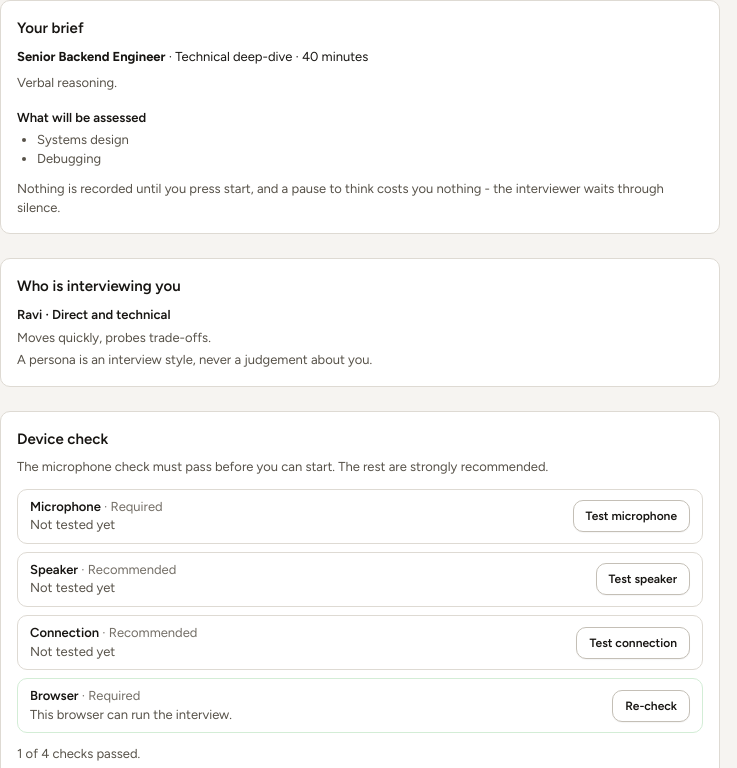
Test: the checks a person runs themselves › the speaker test plays a tone and the person says what they heard
Click the button "Test speaker".
click(643, 579)  # box 596,563 -> 690,595
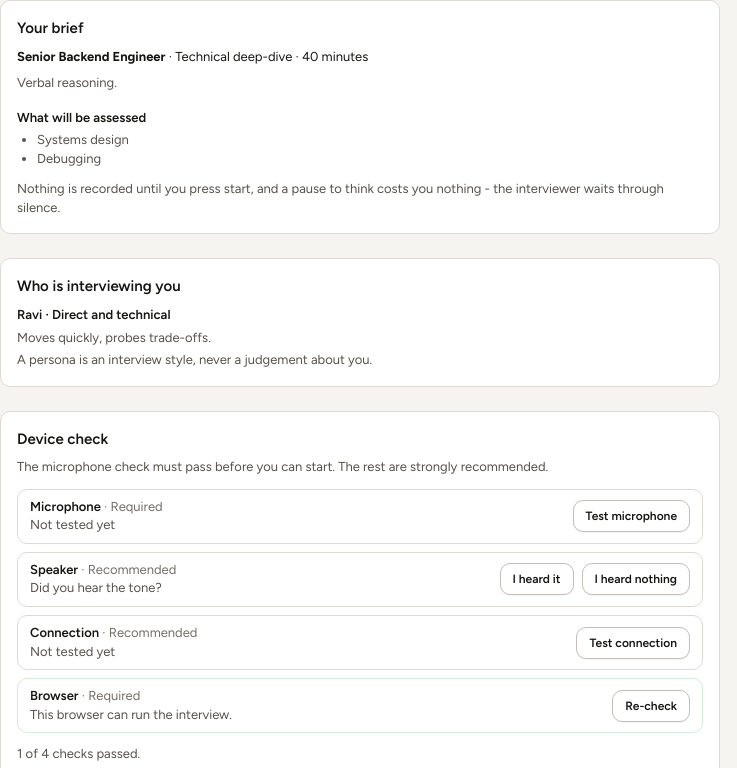
The tone cannot be measured, so the person answers for it.
Click the button "I heard it".
click(536, 579)  # box 500,563 -> 574,595
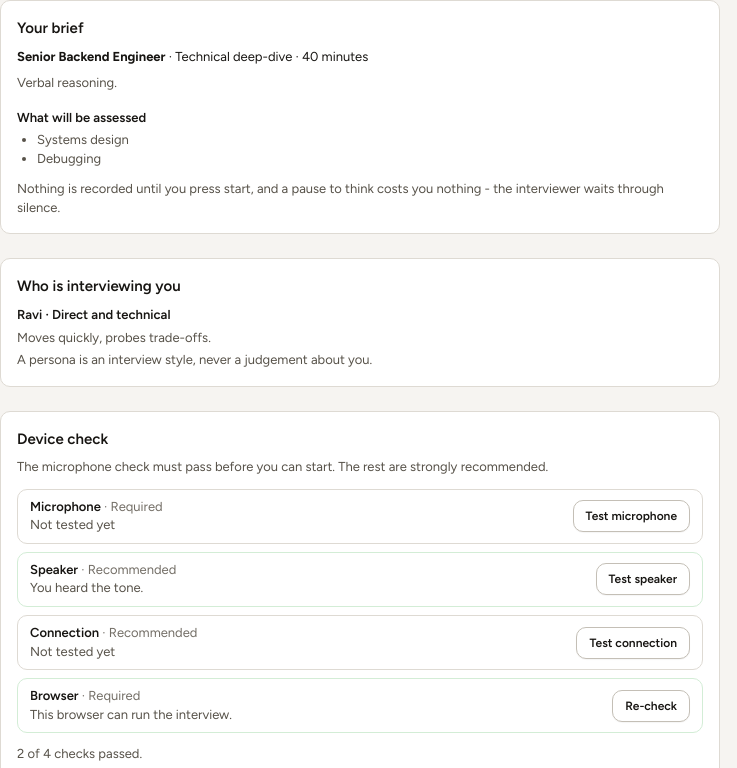
Expected: the button "Test speaker" is shown, 596,563 -> 690,595
